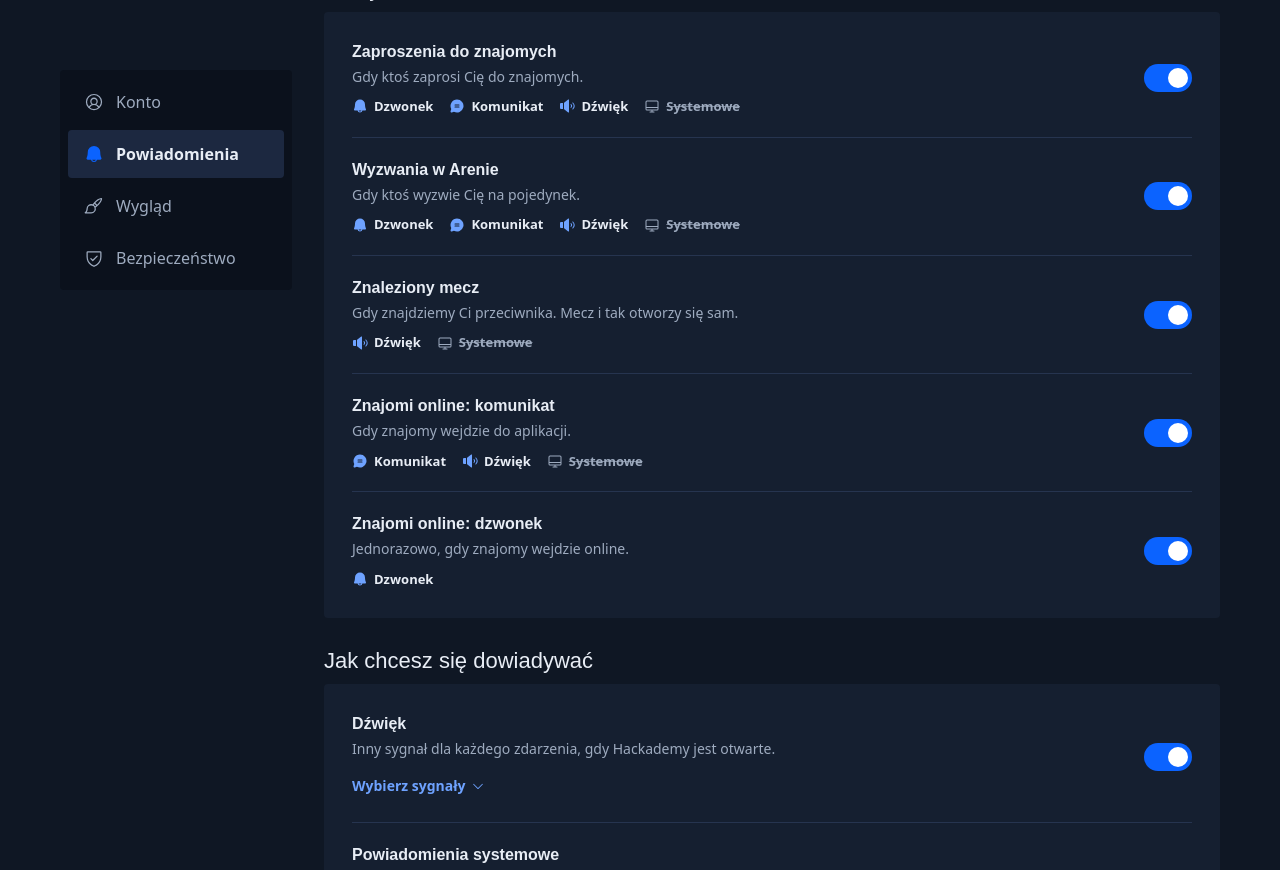
Test: settings › saves the friend online preference
The image size is (1280, 870).
(page scrolled)
Click the switch named "Komunikat o znajomych online" at (1168, 433), box [1144, 419, 1192, 447]
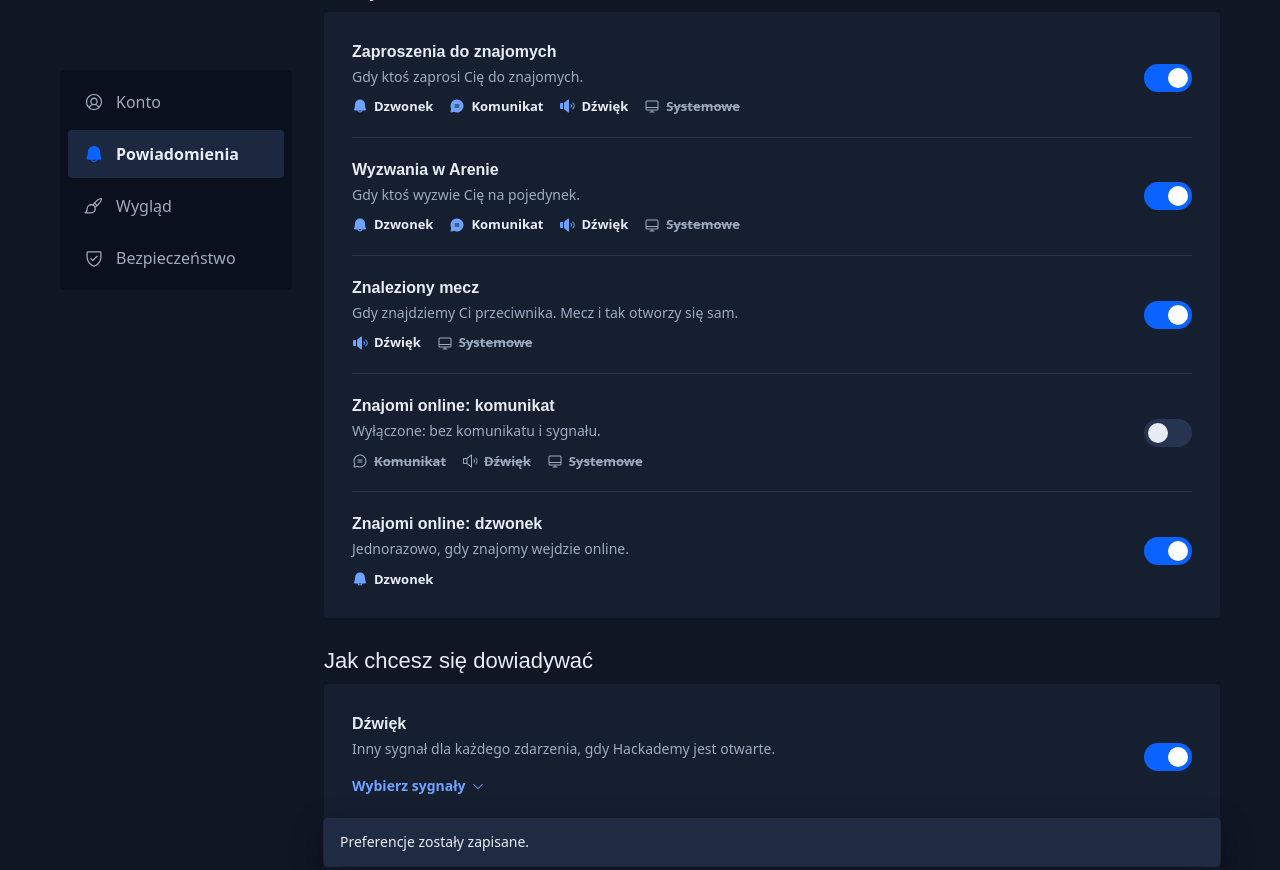
Now the text "Preferencje zostały zapisane." is shown, box [324, 820, 1220, 866]
